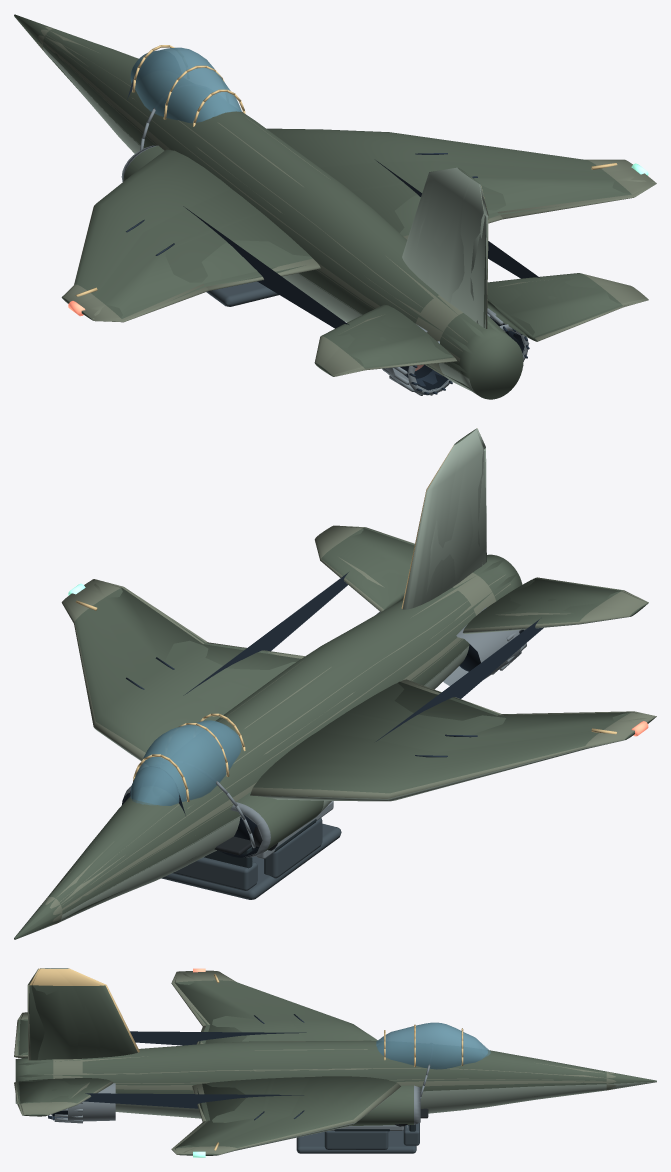
File: alphajet.glb
3 views of the same model, one above another, from view 1: azimuth 30°, elevation 25°; view 2: azimuth 150°, elevation 25°; view 3: azimuth 270°, elevation 25° (orthographic). The views are drawn at different scales.
Visible parts, largest first — view 1: Airframe shell mesh, Airframe shell.002 mesh, Airframe shell.001 mesh, Central fuselage, Port wing, Aft nacelles, Canopy glass, Starboard wing, Canopy glass.001, Cockpit shell mesh, Hinged Aileron.001, Hinged Aileron; view 2: Airframe shell mesh, Airframe shell.002 mesh, Airframe shell.001 mesh, Central fuselage, Cockpit shell mesh, Port wing, Starboard wing, Canopy glass, Canopy glass.001, Aft nacelles, Forward fuselage; view 3: Airframe shell mesh, Airframe shell.002 mesh, Airframe shell.001 mesh, Central fuselage, Starboard wing, Cockpit shell mesh, Canopy glass, Port wing, Aft nacelles, Canopy glass.001, Forward fuselage, Hinged Aileron.
Part boxes in pixels (bbox=[...]): Airframe shell mesh: bbox=[14, 14, 648, 399]; Airframe shell.002 mesh: bbox=[14, 14, 654, 394]; Airframe shell.001 mesh: bbox=[41, 31, 655, 398]; Central fuselage: bbox=[124, 45, 417, 304]; Port wing: bbox=[62, 206, 397, 375]; Aft nacelles: bbox=[322, 175, 589, 399]; Canopy glass: bbox=[130, 47, 241, 123]; Starboard wing: bbox=[376, 160, 655, 317]; Canopy glass.001: bbox=[131, 48, 241, 122]; Cockpit shell mesh: bbox=[140, 108, 278, 306]; Hinged Aileron.001: bbox=[497, 183, 656, 219]; Hinged Aileron: bbox=[92, 284, 208, 322]; Airframe shell mesh: bbox=[14, 432, 648, 939]; Airframe shell.002 mesh: bbox=[14, 429, 655, 939]; Airframe shell.001 mesh: bbox=[14, 428, 655, 938]; Central fuselage: bbox=[122, 631, 440, 857]; Cockpit shell mesh: bbox=[161, 781, 341, 899]; Port wing: bbox=[320, 586, 655, 798]; Starboard wing: bbox=[62, 526, 397, 695]; Canopy glass: bbox=[130, 720, 241, 805]; Canopy glass.001: bbox=[131, 721, 241, 805]; Aft nacelles: bbox=[354, 429, 588, 685]; Forward fuselage: bbox=[48, 766, 184, 921]; Airframe shell mesh: bbox=[14, 968, 656, 1157]; Airframe shell.002 mesh: bbox=[16, 968, 656, 1155]; Airframe shell.001 mesh: bbox=[15, 968, 656, 1155]; Central fuselage: bbox=[191, 1023, 467, 1125]; Starboard wing: bbox=[19, 1093, 345, 1154]; Cockpit shell mesh: bbox=[296, 1064, 430, 1153]; Canopy glass: bbox=[376, 1022, 487, 1069]; Port wing: bbox=[19, 971, 306, 1045]; Aft nacelles: bbox=[16, 968, 191, 1119]; Canopy glass.001: bbox=[379, 1022, 483, 1069]; Forward fuselage: bbox=[468, 1036, 604, 1106]; Hinged Aileron: bbox=[171, 972, 209, 1026].
Bounding box in the file's own units: 9.24 × 3.91 × 13.53.
